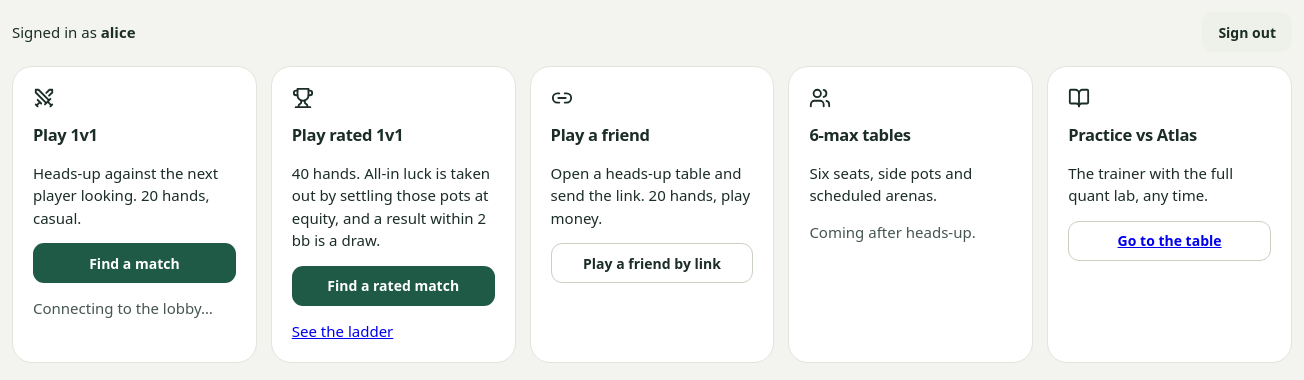
Test: Lobby › shows why a table could not be opened
Click the button "Play a friend by link" at coordinates (652, 263), box [551,243,753,283]
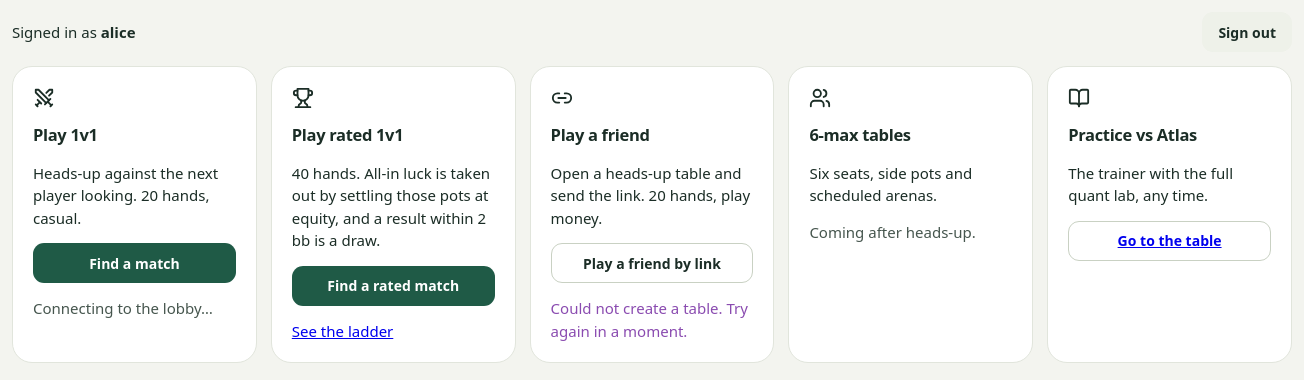
Expected: the message shows "Could not create a table", [551,298,748,341]
